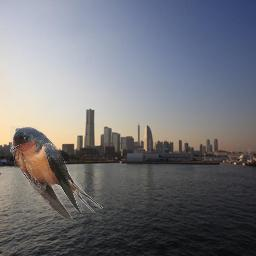Swallow: (10, 126, 103, 220)
